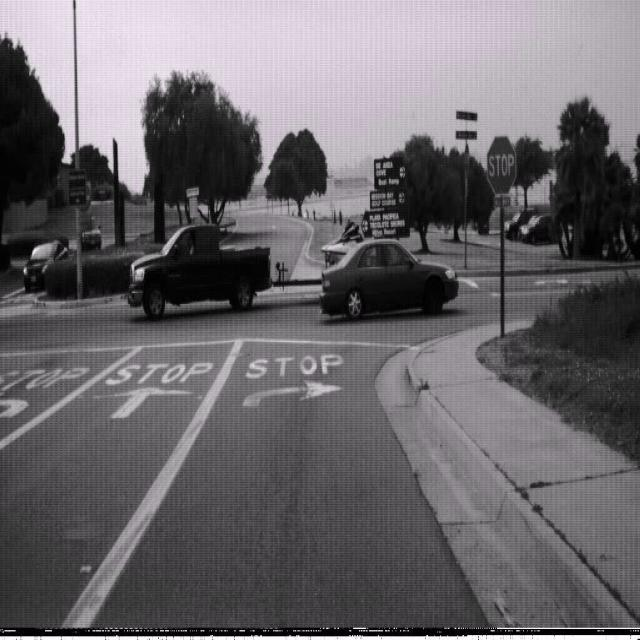stop_sign: (486, 134, 516, 198)
